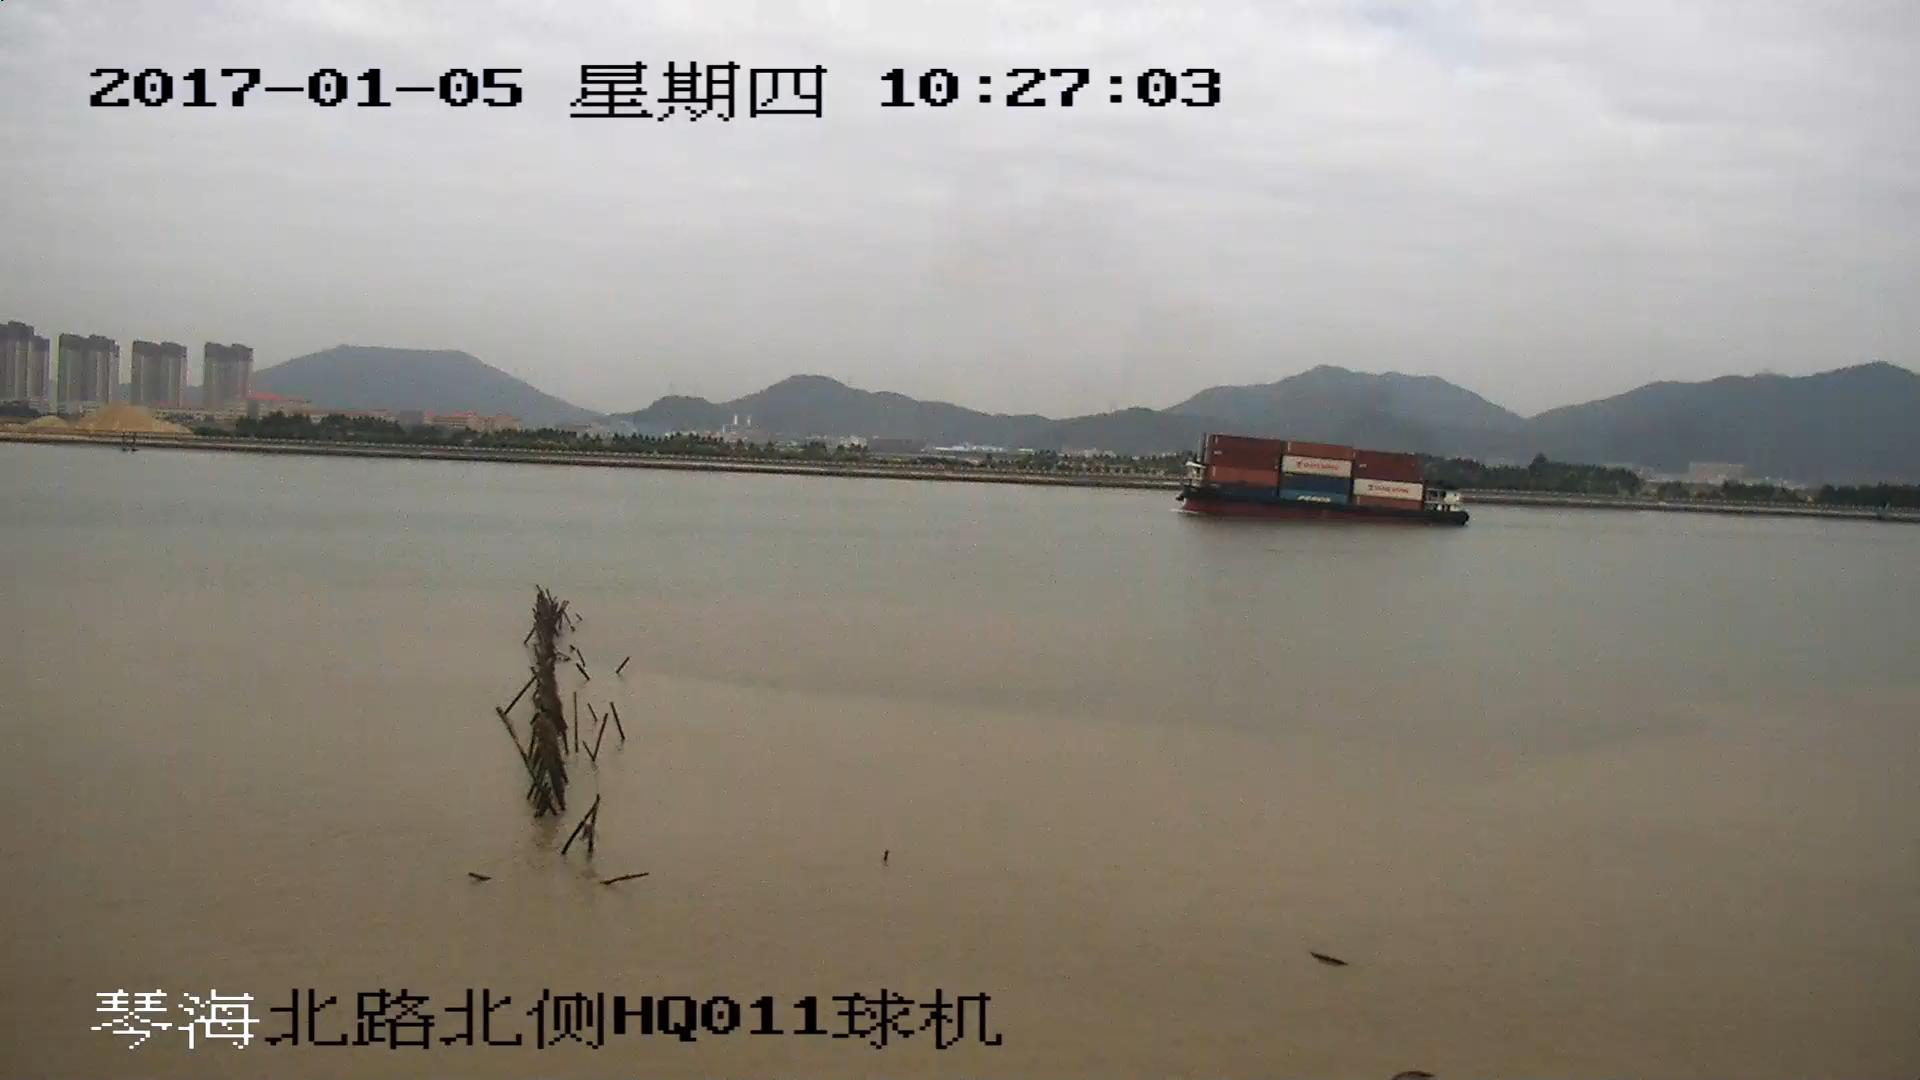Ship: (1179, 433, 1472, 527)
